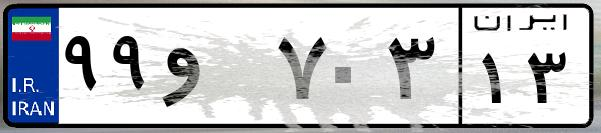0: (330, 28, 385, 110)
1: (475, 38, 525, 113)
3: (385, 28, 445, 110), (525, 38, 570, 115)
7: (270, 28, 330, 110)
9: (57, 26, 110, 100), (110, 28, 158, 98)
و: (158, 20, 270, 120)
